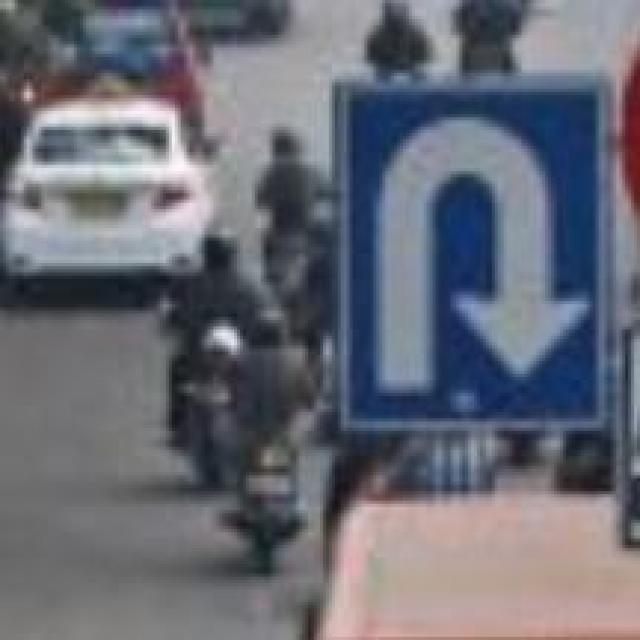traffic sign: (329, 82, 610, 430)
